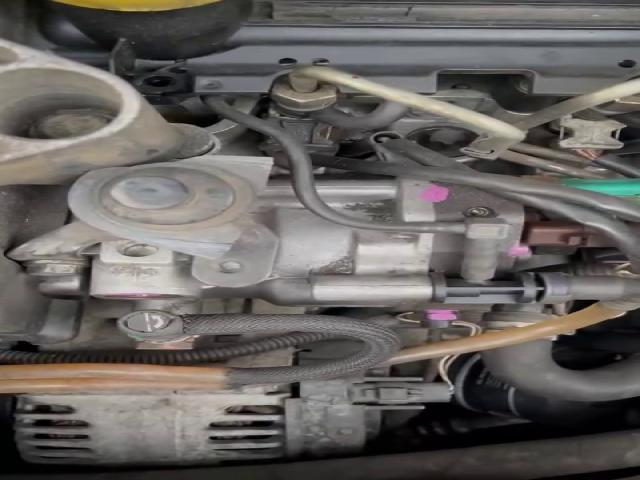alternator: (15, 384, 289, 465)
high_pressure_pump: (91, 179, 634, 328)
